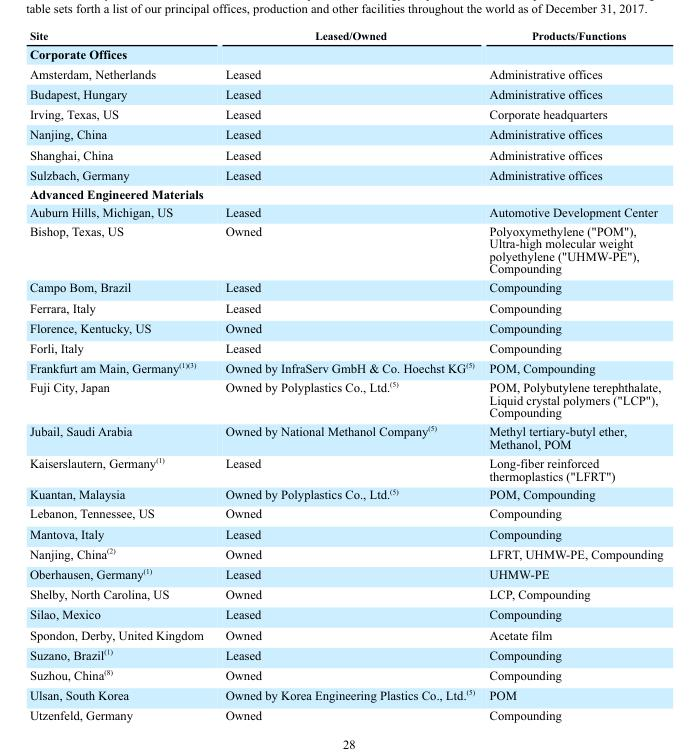table: (28, 28, 662, 722)
table column: (213, 28, 481, 722), (28, 28, 213, 722), (481, 28, 662, 722)
table column header: (28, 28, 662, 43)
table projected row header: (28, 43, 662, 63), (28, 184, 662, 202)
table row: (28, 220, 662, 277), (28, 377, 662, 421), (28, 452, 662, 484), (28, 421, 662, 452), (28, 103, 662, 124), (28, 583, 662, 604), (28, 684, 662, 705), (28, 43, 662, 63), (28, 63, 662, 83), (28, 83, 662, 103), (28, 124, 662, 144), (28, 144, 662, 164), (28, 164, 662, 184), (28, 277, 662, 297), (28, 297, 662, 317), (28, 317, 662, 337), (28, 337, 662, 357), (28, 357, 662, 377), (28, 503, 662, 523), (28, 523, 662, 543), (28, 543, 662, 563), (28, 563, 662, 583), (28, 604, 662, 624), (28, 624, 662, 644), (28, 644, 662, 664), (28, 664, 662, 684), (28, 484, 662, 503), (28, 184, 662, 202), (28, 202, 662, 220), (28, 705, 662, 722), (28, 28, 662, 43)
